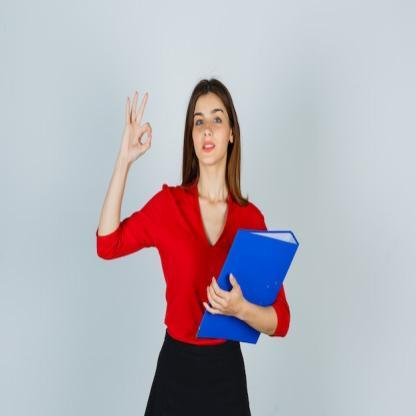ok: (119, 89, 156, 166)
